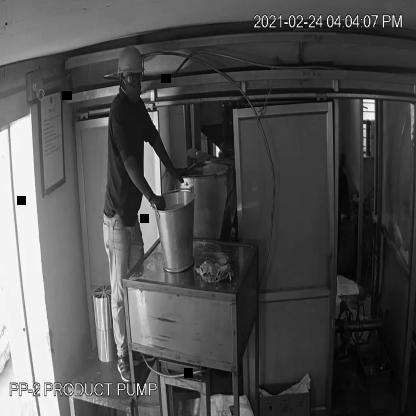helmet: (113, 38, 147, 82)
